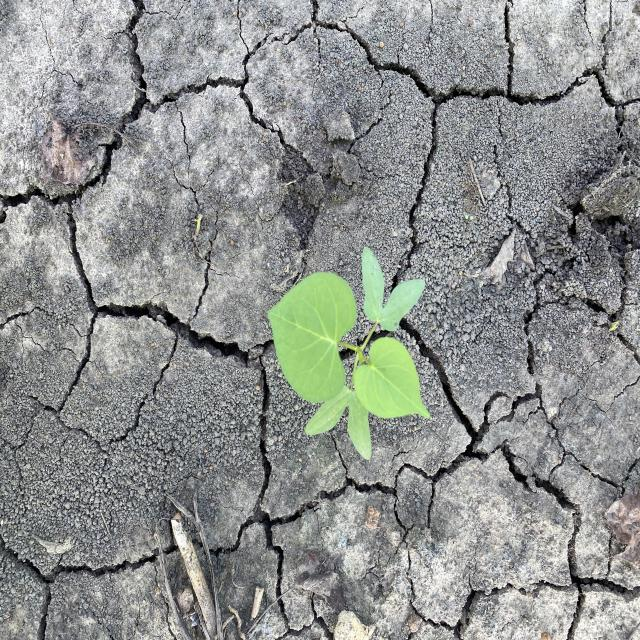MorningGlory: (266, 245, 432, 462)
